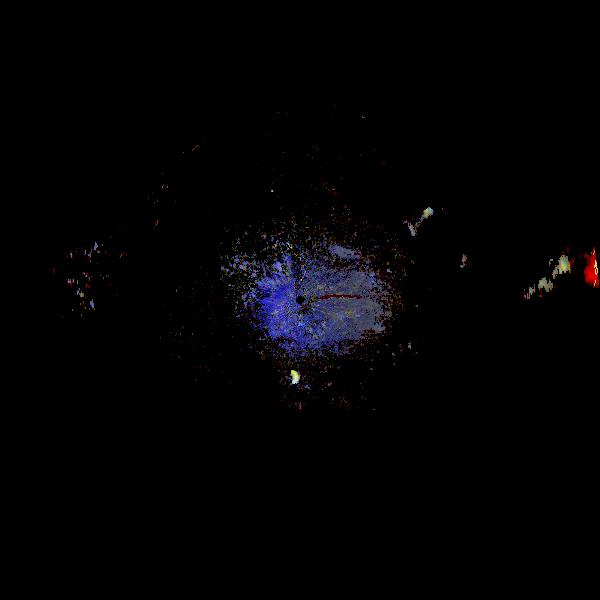roost: (287, 368, 305, 386), (271, 190, 274, 193)
